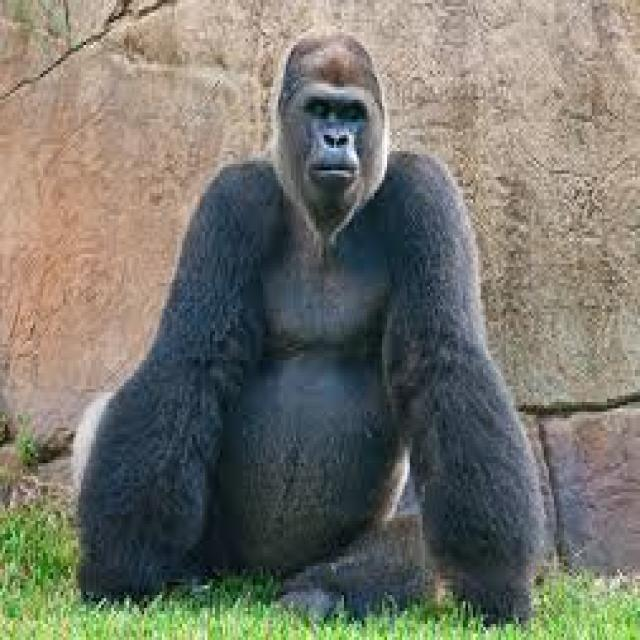Gorilla: (73, 27, 548, 613)
